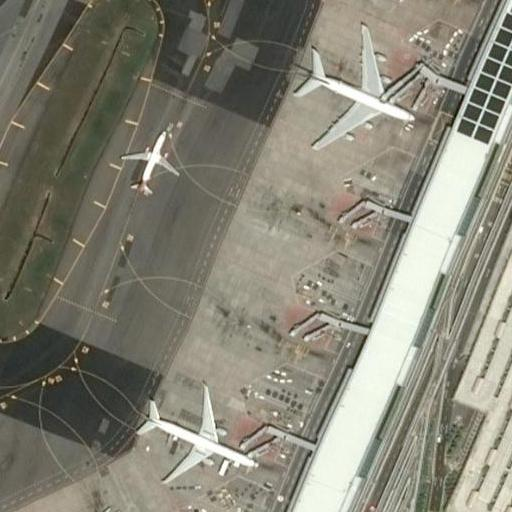Aircraft: (294, 22, 411, 146), (137, 386, 260, 480), (120, 127, 177, 196), (83, 507, 137, 512), (380, 0, 453, 3)
